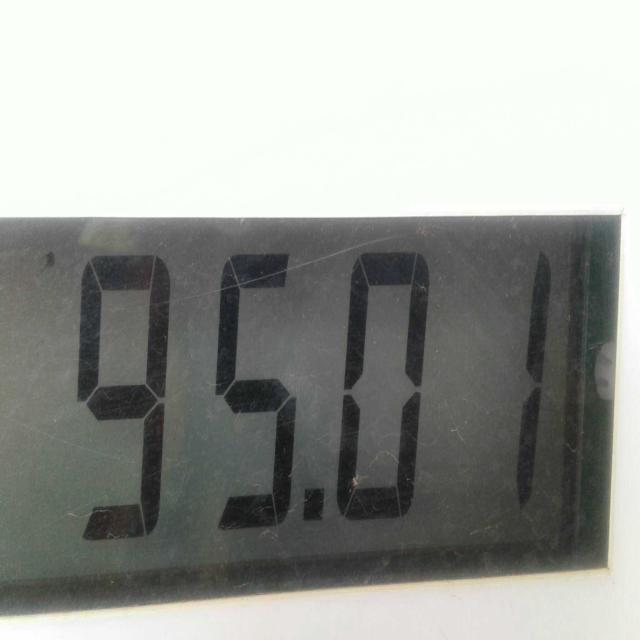.: (297, 464, 336, 540)
0: (337, 232, 446, 544)
1: (492, 240, 564, 523)
5: (195, 234, 302, 558)
9: (62, 240, 191, 560)
